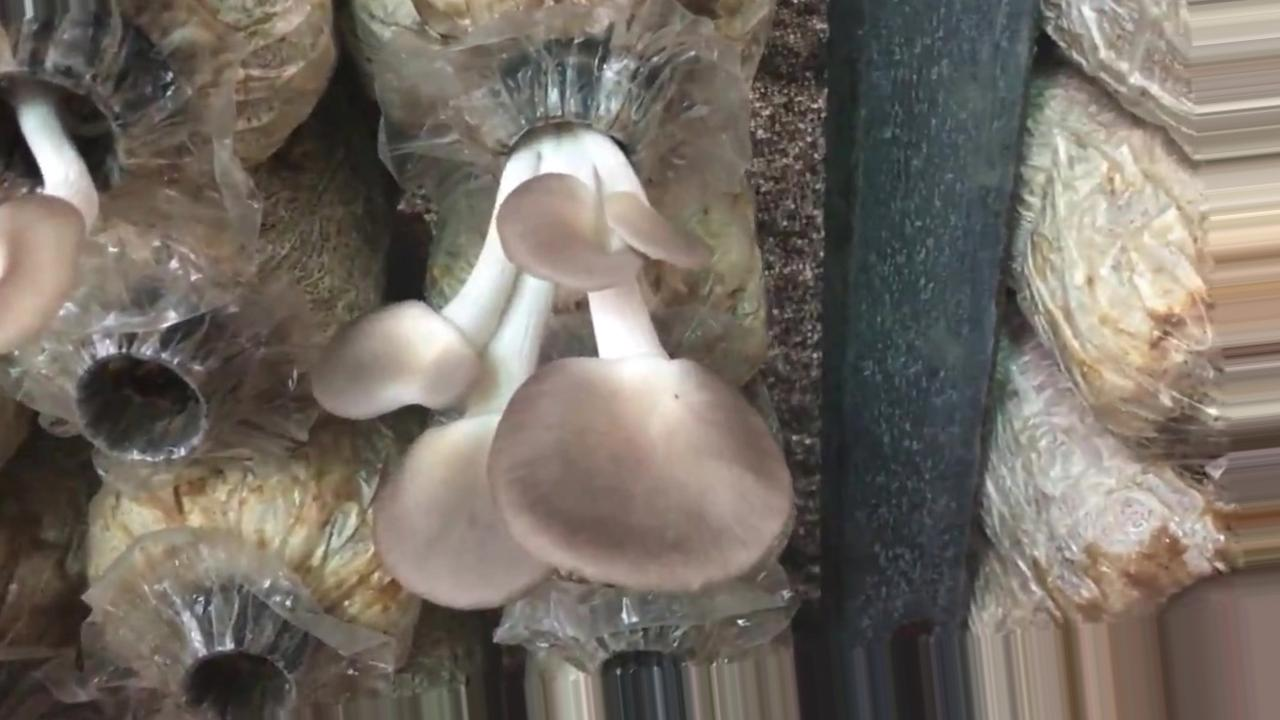nam: (317, 62, 793, 607), (1, 17, 150, 347)
